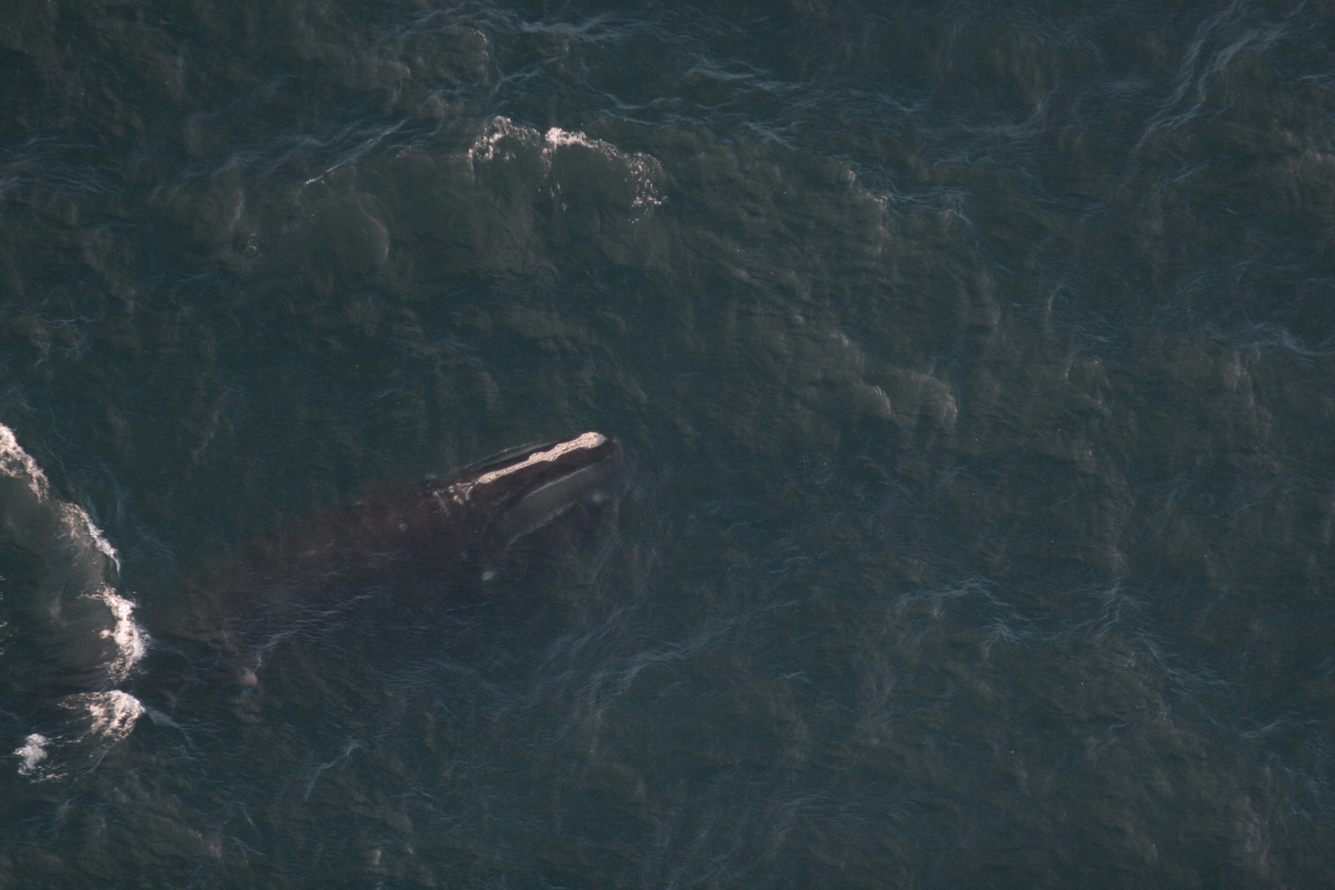whale: (0, 423, 628, 753)
